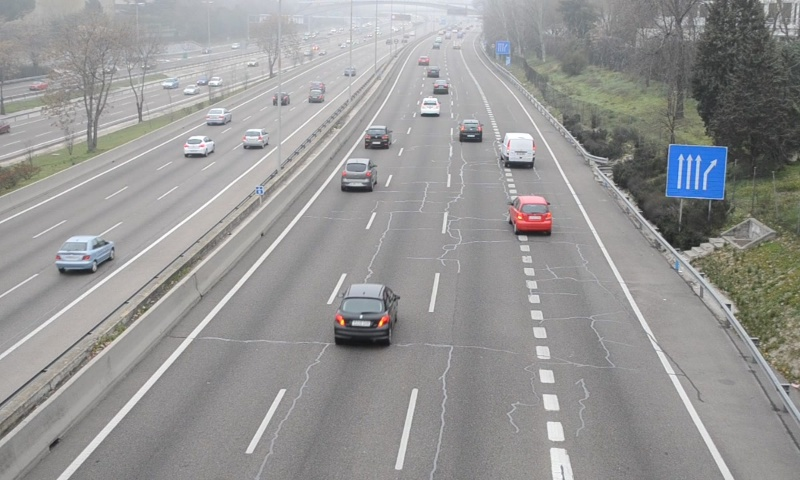car: (334, 284, 396, 343), (510, 194, 552, 234), (340, 158, 376, 188), (364, 126, 391, 149), (458, 119, 484, 142), (418, 95, 441, 116), (435, 78, 450, 93)
van: (499, 131, 536, 169)
